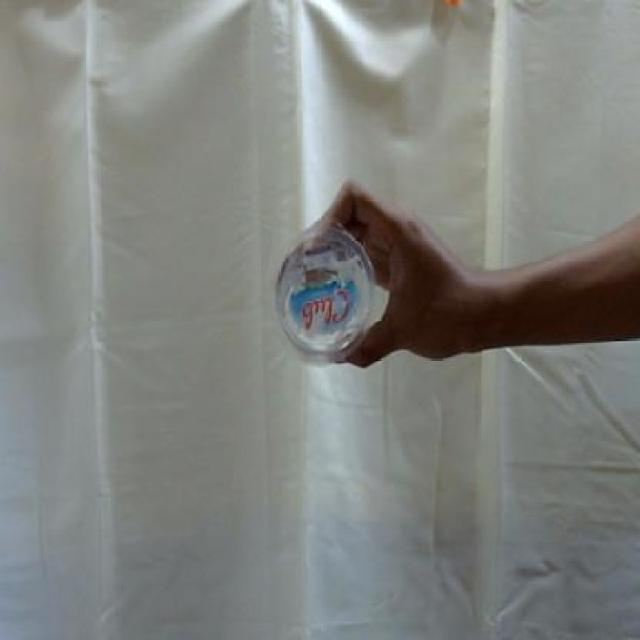Plastic: (273, 229, 375, 364)
